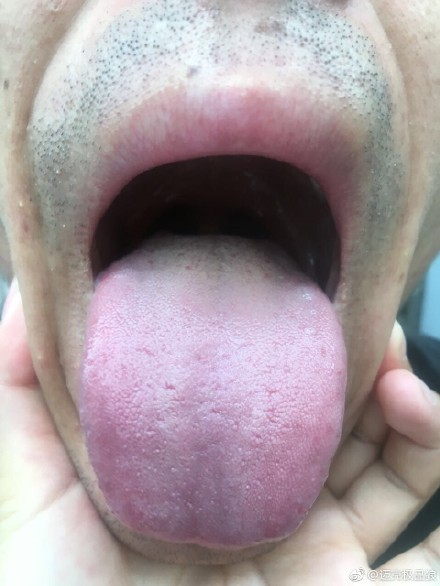baitaishe: (82, 234, 347, 551)
